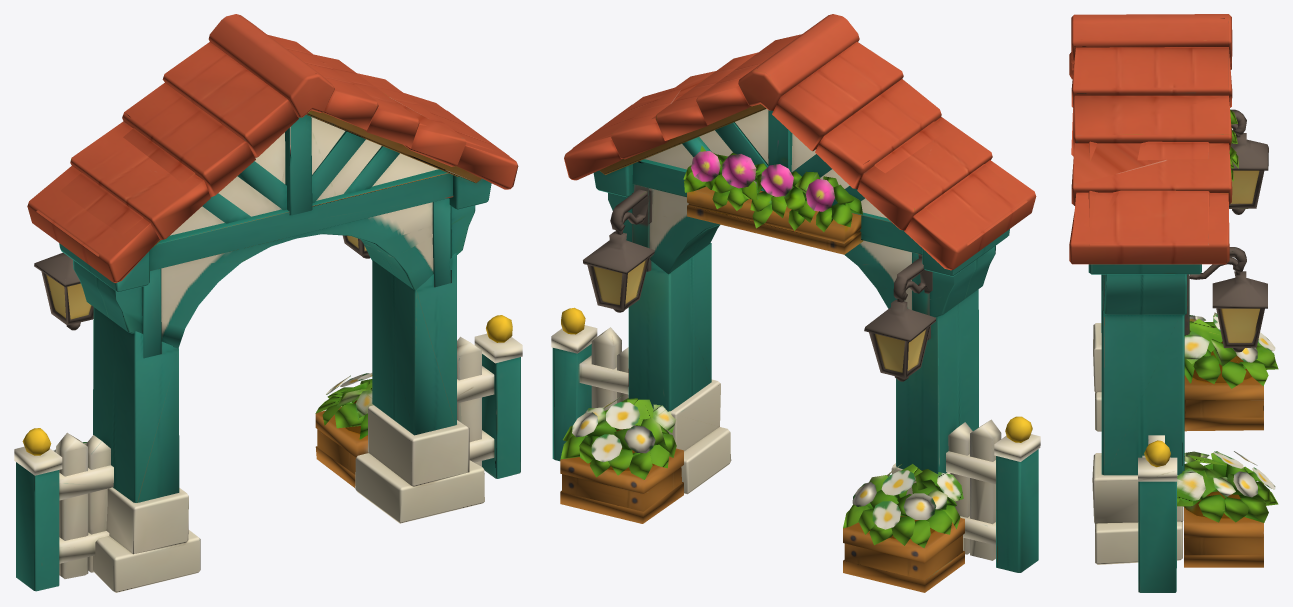
The model's file is gate_tiled.glb.
The picture shows the model from 3 angles, left to right: view 1: azimuth 30°, elevation 25°; view 2: azimuth 150°, elevation 25°; view 3: azimuth 270°, elevation 25°; orthographic projection. The views are drawn at different scales.
Parts seen in each view (by area): view 1: geometry_0; view 2: geometry_0; view 3: geometry_0.
Boxes of the visible parts, x1,y1,x2,y2 form: geometry_0: (14, 14, 522, 592); geometry_0: (551, 14, 1040, 592); geometry_0: (1069, 14, 1278, 592).
Bounding box in the file's own units: 0.9512 × 0.8984 × 0.3682.
1 material, 1 textured.
